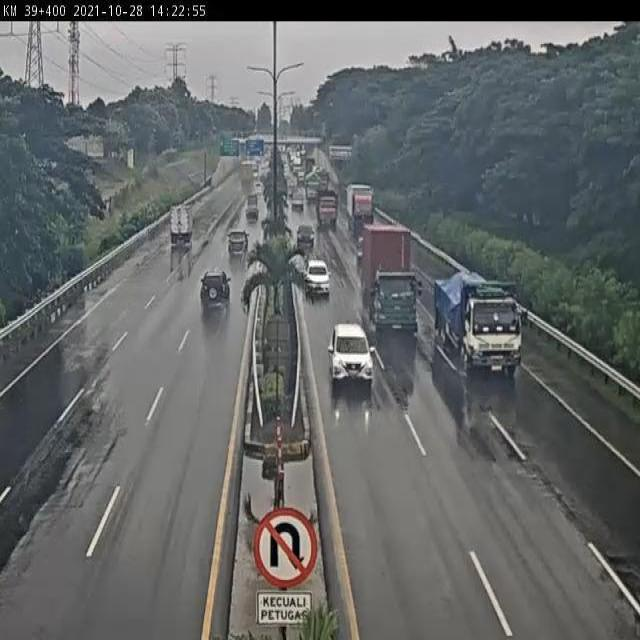ARABA: (329, 324, 376, 387), (303, 261, 333, 299), (201, 271, 231, 305), (227, 229, 250, 255), (296, 225, 315, 251)
KAMYONET: (170, 203, 194, 244)
TIR: (435, 273, 532, 376), (363, 227, 421, 336), (348, 183, 376, 229)
